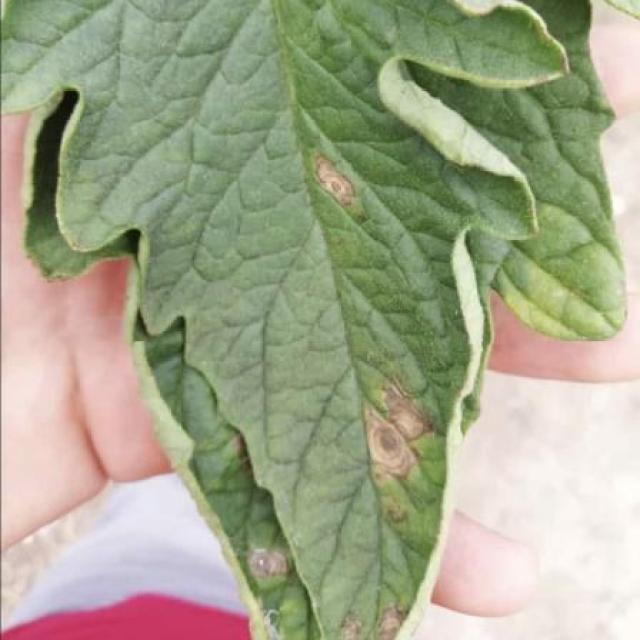Early Blight: (0, 0, 576, 640)
